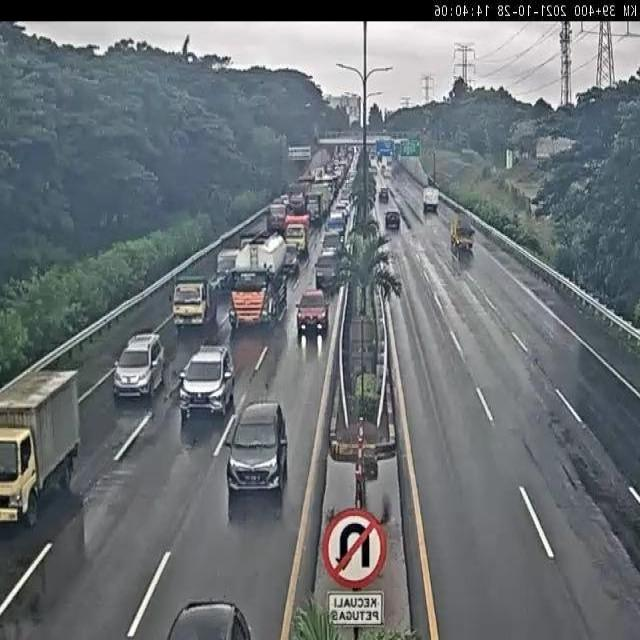Car: (225, 400, 289, 517), (178, 342, 235, 419), (114, 331, 166, 400), (295, 288, 329, 338), (314, 249, 340, 291), (322, 229, 344, 258), (326, 210, 345, 236), (422, 187, 439, 212), (337, 192, 352, 219), (385, 210, 400, 230), (379, 186, 389, 202)
Truck: (0, 374, 80, 530), (226, 235, 291, 332), (172, 275, 214, 332), (284, 214, 310, 258), (450, 214, 475, 257), (303, 188, 327, 226)
